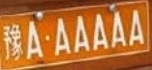A: (26, 21, 43, 59)
